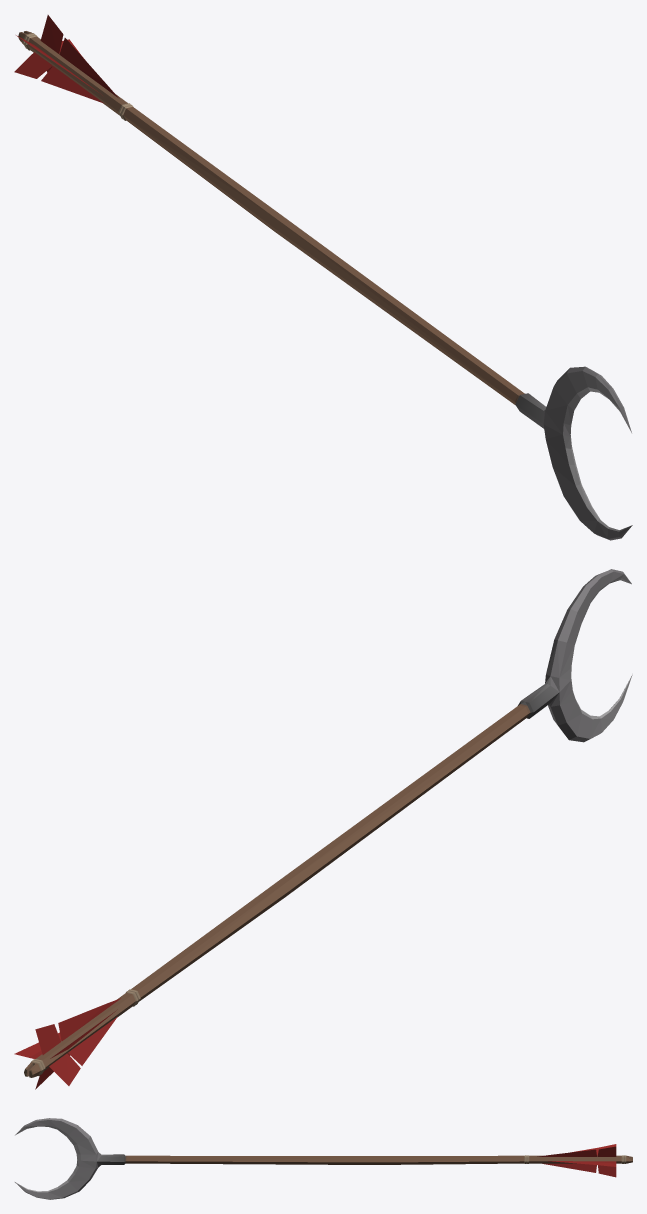
File: moonShapedTipArrow.glb
3 renders of one model, top to bottom at view 1: azimuth 30°, elevation 25°; view 2: azimuth 150°, elevation 25°; view 3: azimuth 270°, elevation 25°, orthographic. The views are drawn at different scales.
Visible parts, largest first — view 1: moonShapedTipArrow; view 2: moonShapedTipArrow; view 3: moonShapedTipArrow.
Part boxes in pixels (left/top/right/bottom): moonShapedTipArrow: left=14, top=15, right=632, bottom=540; moonShapedTipArrow: left=14, top=569, right=632, bottom=1089; moonShapedTipArrow: left=15, top=1118, right=632, bottom=1199.
Size of the model in its own units: 0.0568 by 0.1578 by 1.08.
